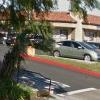Car: (45, 31, 100, 61)
